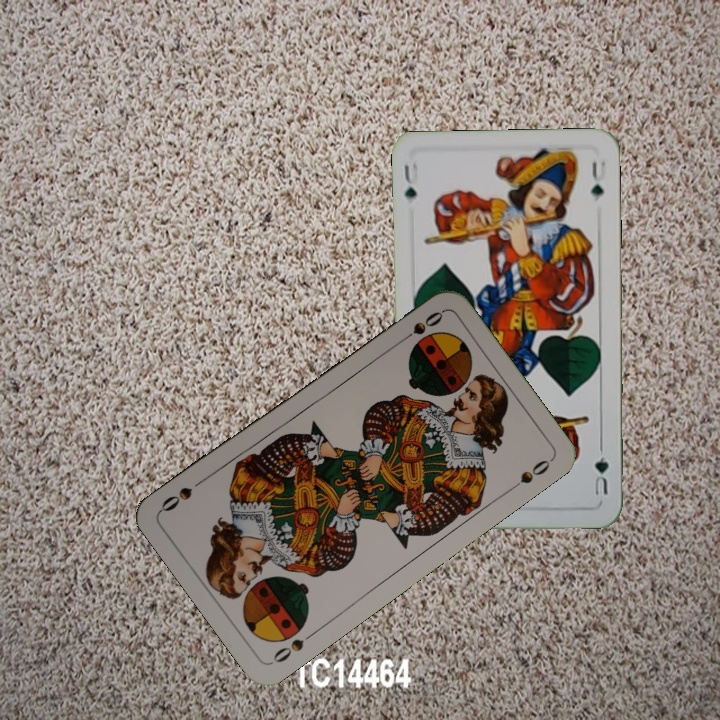GU: (590, 443, 611, 498), (400, 158, 421, 202)
SO: (394, 307, 446, 347), (268, 627, 319, 666)
